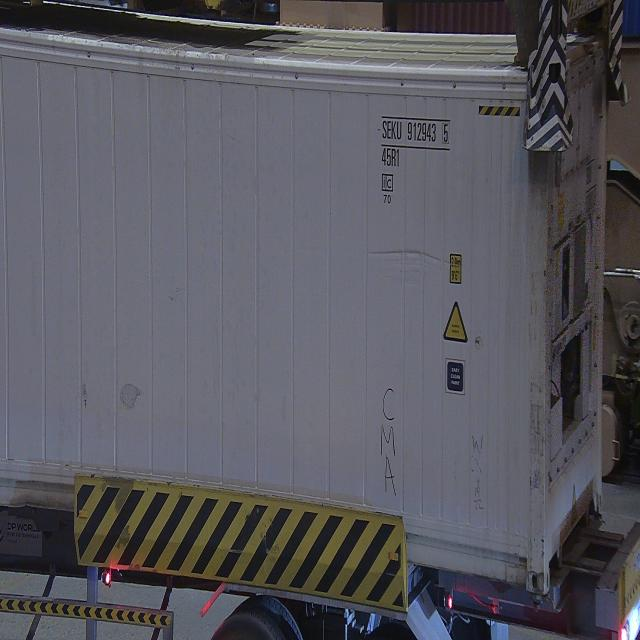dent: (374, 237, 445, 273)
